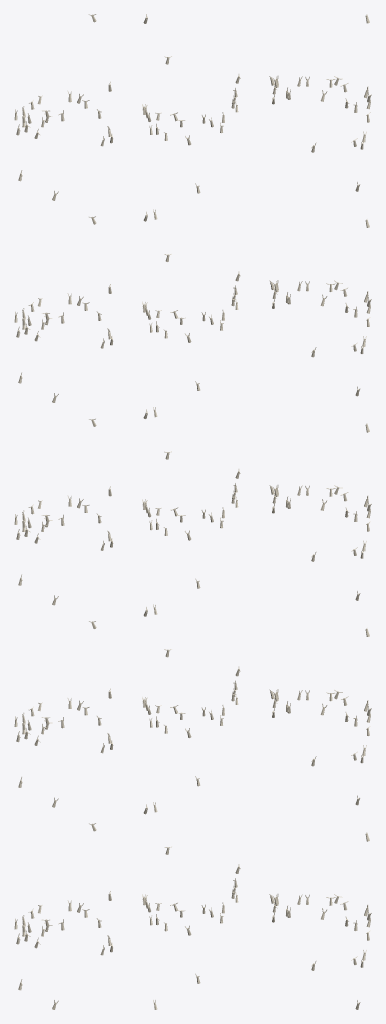
The model's file is Circle2Crowd2.obj.
3 views of the same model, side by side, from view 1: azimuth 30°, elevation 25°; view 2: azimuth 150°, elevation 25°; view 3: azimuth 330°, elevation 25° (orthographic). The views are drawn at different scales.
Parts seen in each view (by area): view 1: Circle2Crowd2; view 2: Circle2Crowd2; view 3: Circle2Crowd2.
Boxes of the visible parts, x1,y1,x2,y2 form: Circle2Crowd2: [14, 14, 113, 1009]; Circle2Crowd2: [142, 14, 240, 1009]; Circle2Crowd2: [269, 14, 371, 1009].
Size of the model in its own units: 29.92 by 322 by 24.26.
Materials: 1 (1 with a texture image).
